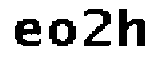2: (79, 7, 113, 50)
e: (13, 16, 44, 50)
h: (114, 4, 150, 51)
o: (46, 16, 78, 51)
